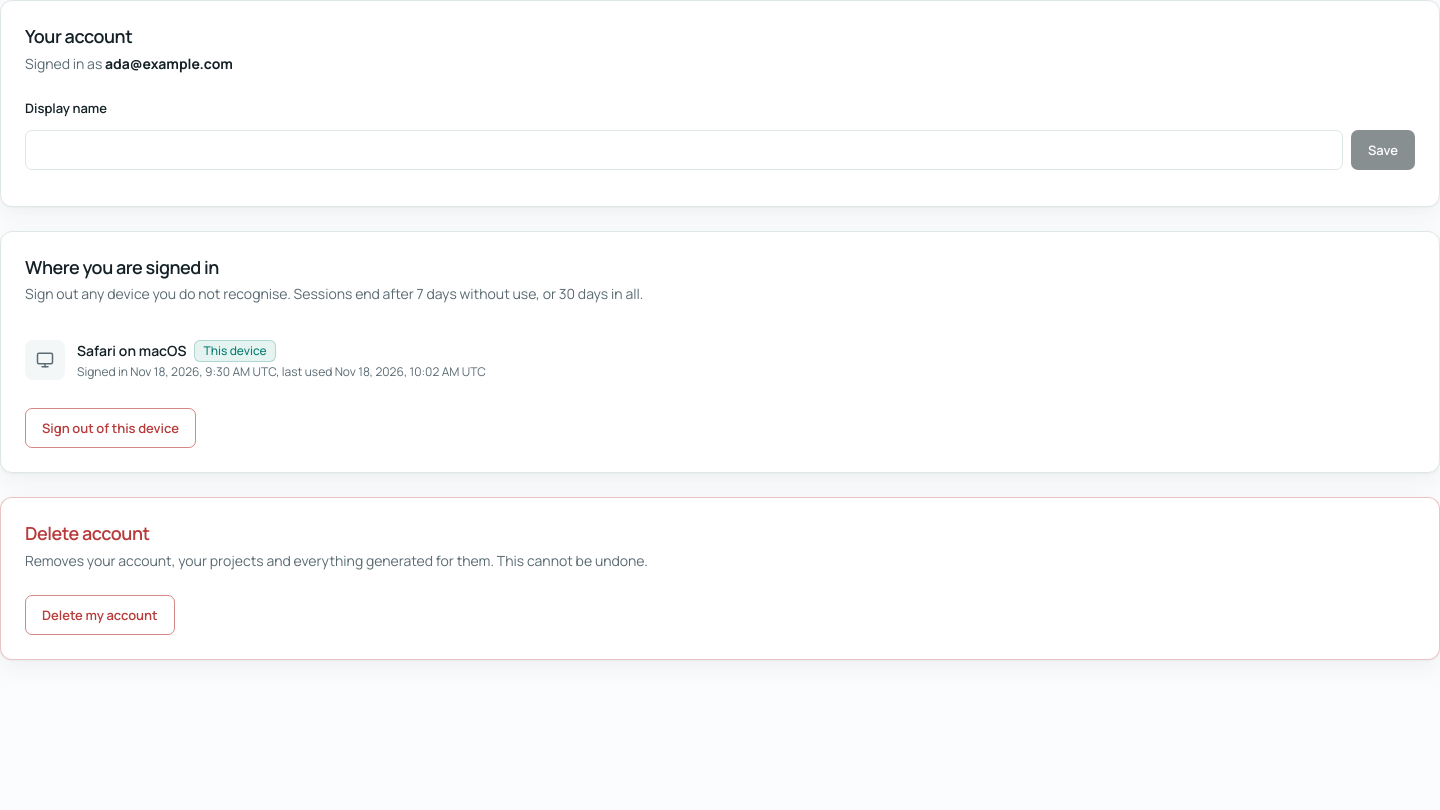
Scenario: AccountView › shows a rule message when the name is refused
The image size is (1440, 810).
Type "x" into the field labelled "Display name" at (684, 150), box left=25, top=130, right=1343, bottom=170
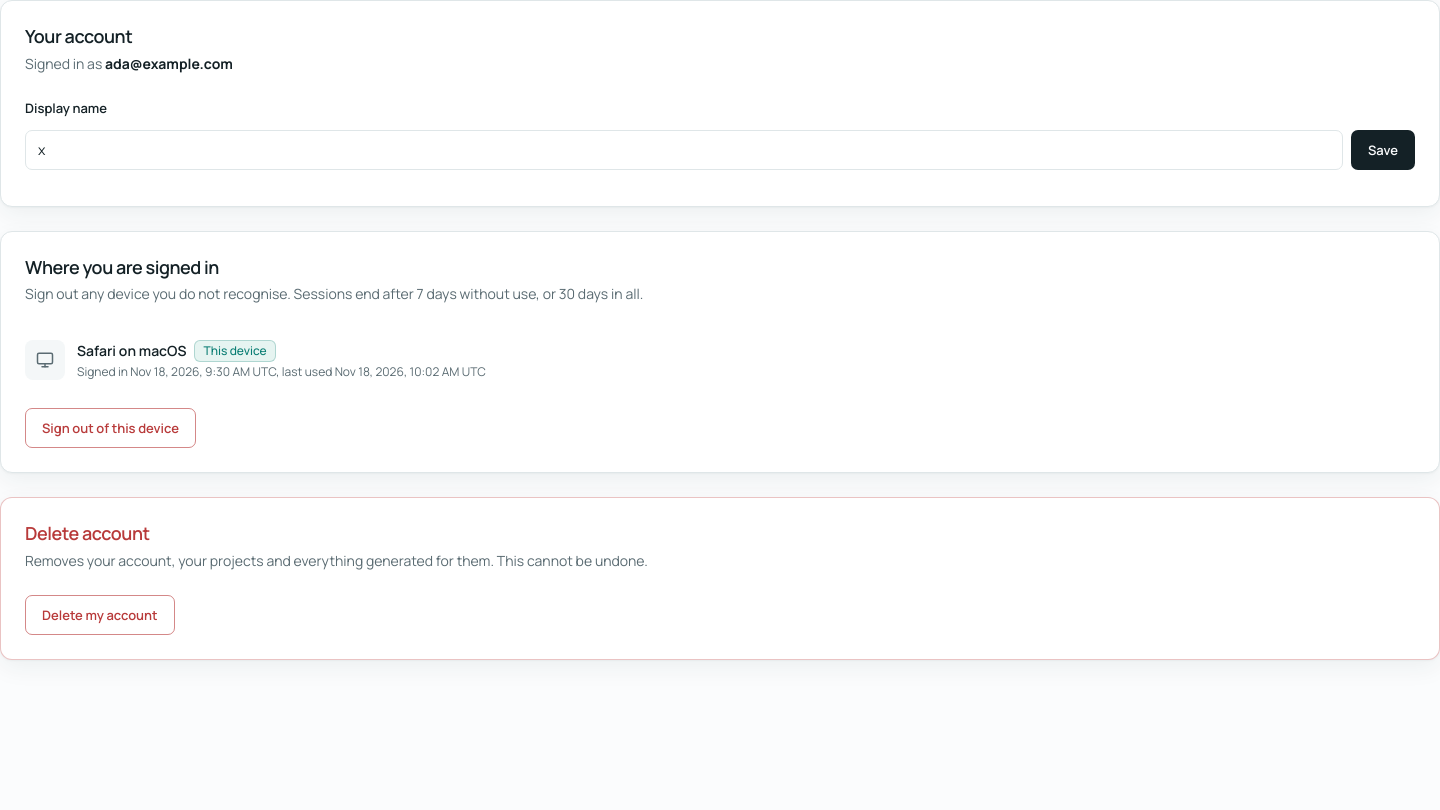
Click the button "Save" at (1383, 150), box left=1351, top=130, right=1415, bottom=170
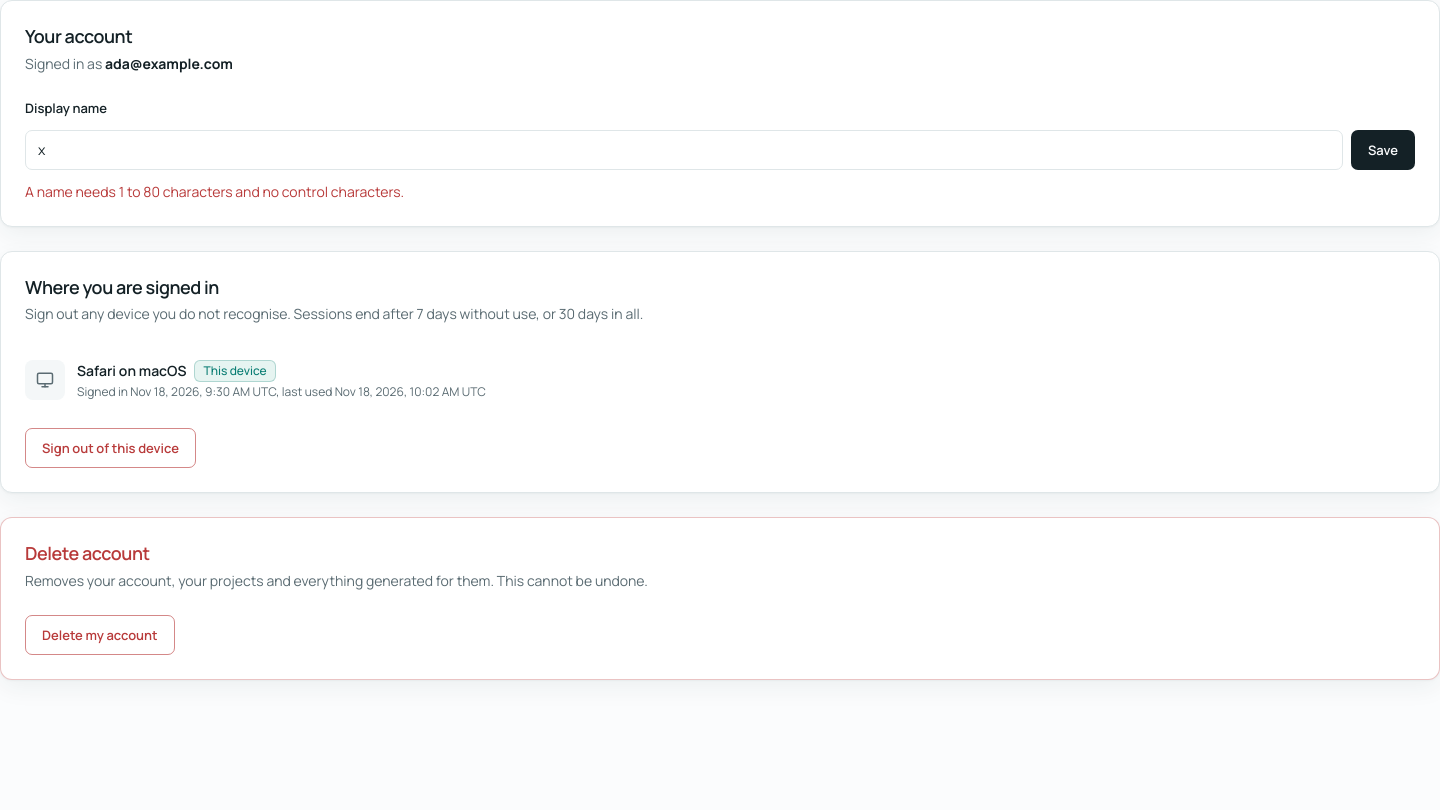
Expected: the message shows "1 to 80 characters", left=25, top=182, right=404, bottom=201
